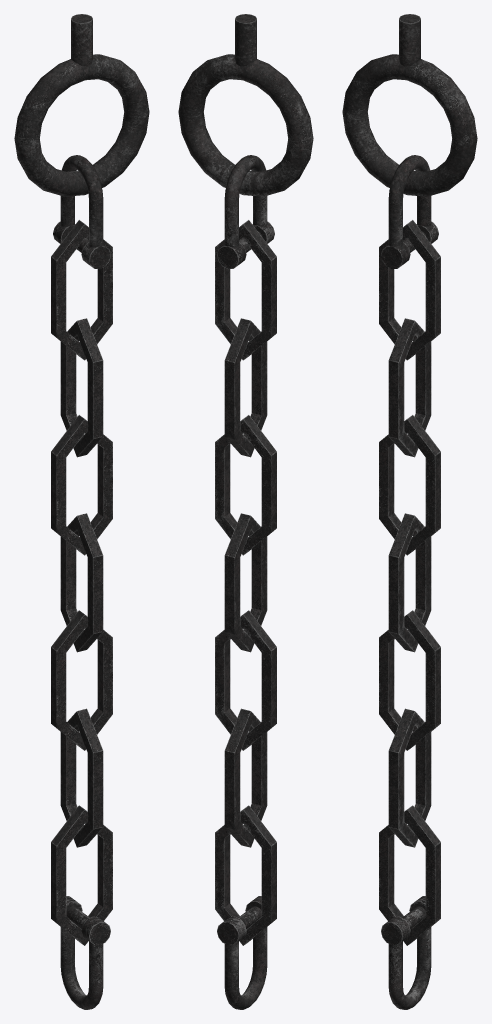
Rendered from chain_01.fbx.
3 views of the same model, side by side, from view 1: azimuth 30°, elevation 25°; view 2: azimuth 150°, elevation 25°; view 3: azimuth 330°, elevation 25° (orthographic).
Parts seen in each view (by area): view 1: chain_01; view 2: chain_01; view 3: chain_01.
Part boxes in pixels (x1,y1,x2,y2): chain_01: (14, 14, 149, 1009); chain_01: (178, 14, 313, 1009); chain_01: (342, 14, 477, 1009).
Size of the model in its own units: 20.24 by 145 by 9.65.
